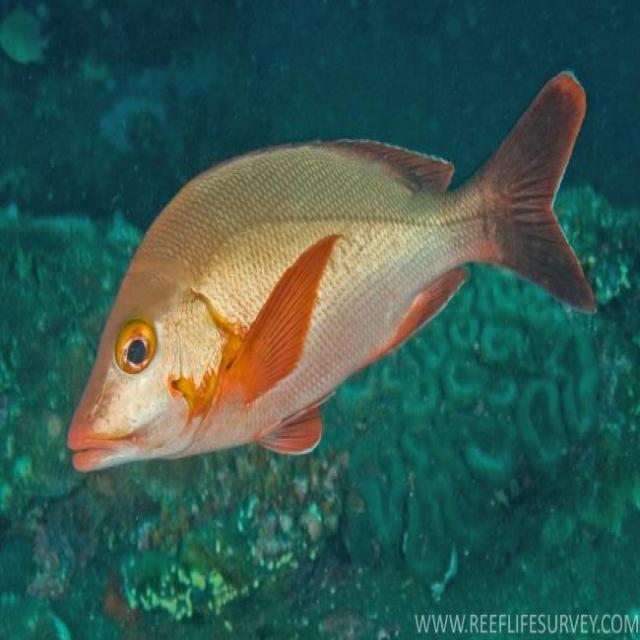ikan: (65, 68, 597, 474)
